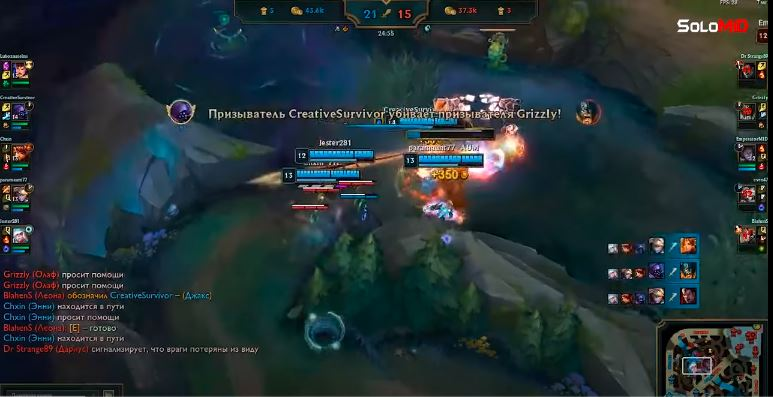bar: (291, 145, 377, 165), (404, 150, 486, 169), (280, 165, 363, 182), (385, 112, 463, 126)
